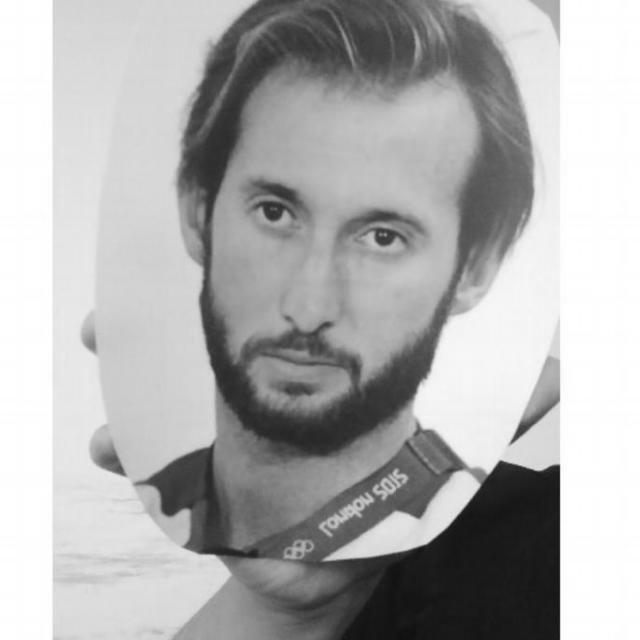fake: (72, 0, 558, 571)
